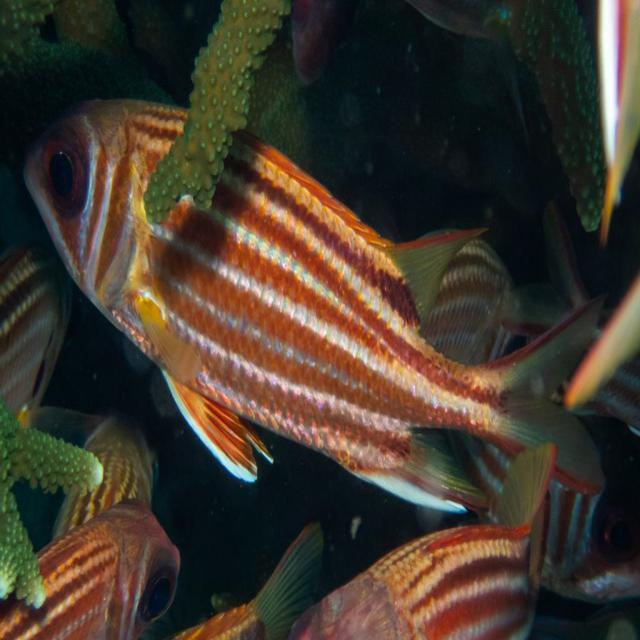Asker Baligi: (9, 55, 598, 536)
